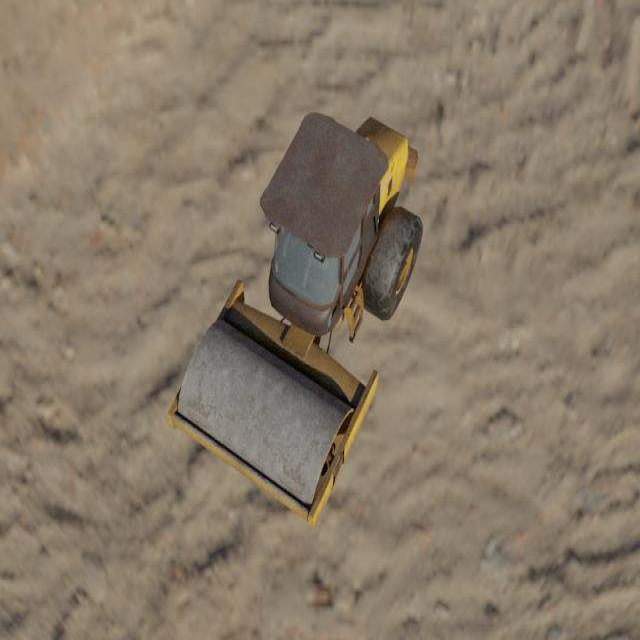Roller: (166, 110, 423, 530)
